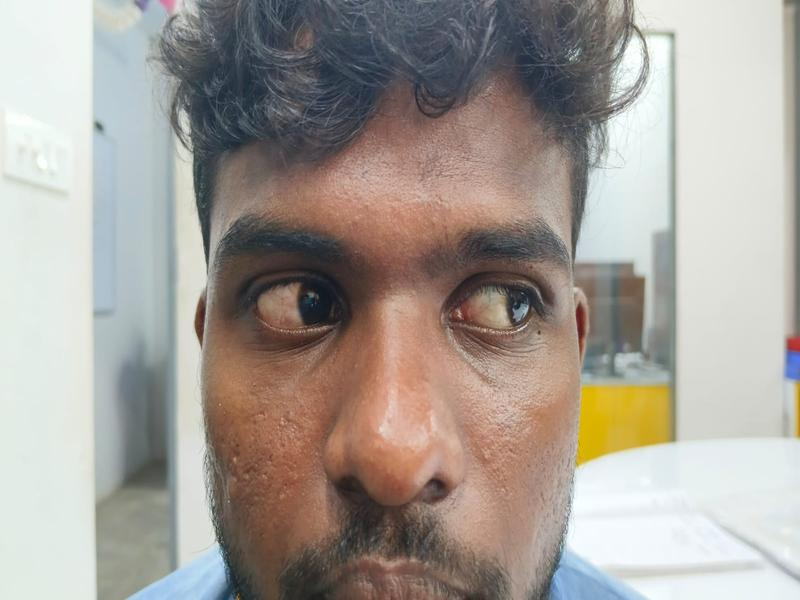EYE LEFT: (249, 283, 338, 330), (460, 286, 534, 332)
